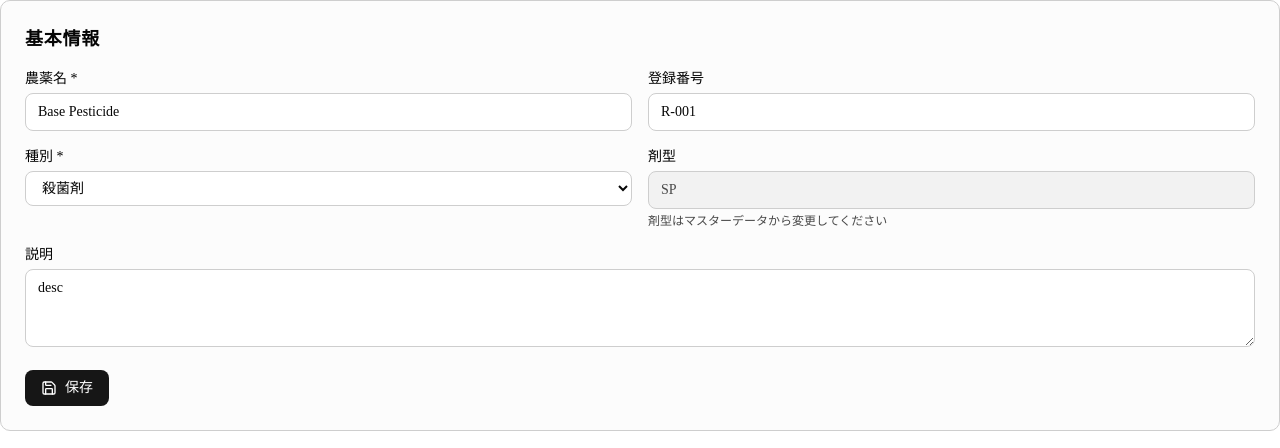
PesticideEditForm › 保存失敗時はエラーメッセージを表示し router.refresh は呼ばれない
Click the button "保存". click: click(67, 388)
box: x1=25 y1=370 x2=109 y2=406
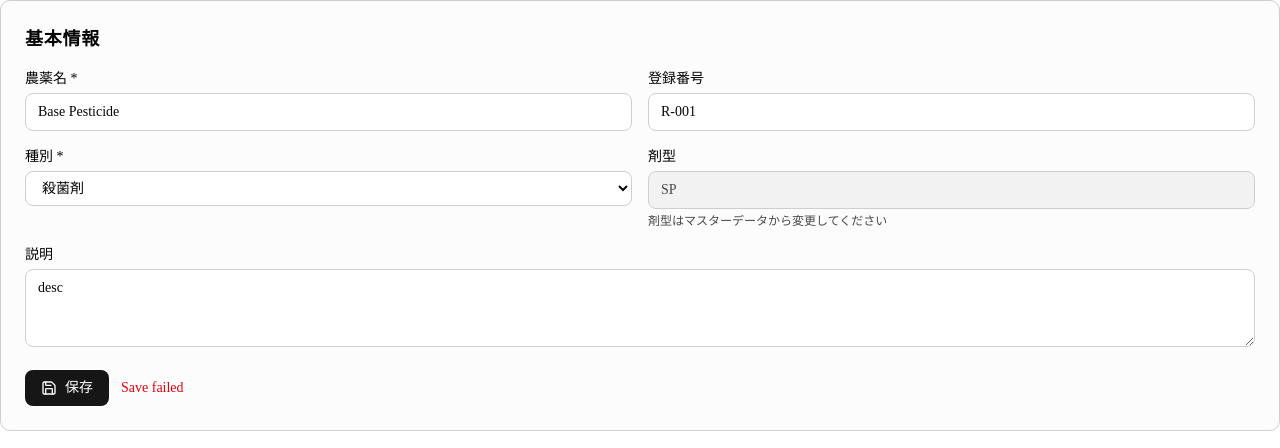
Expected: the text "Save failed" is shown, x1=121 y1=378 x2=184 y2=398
